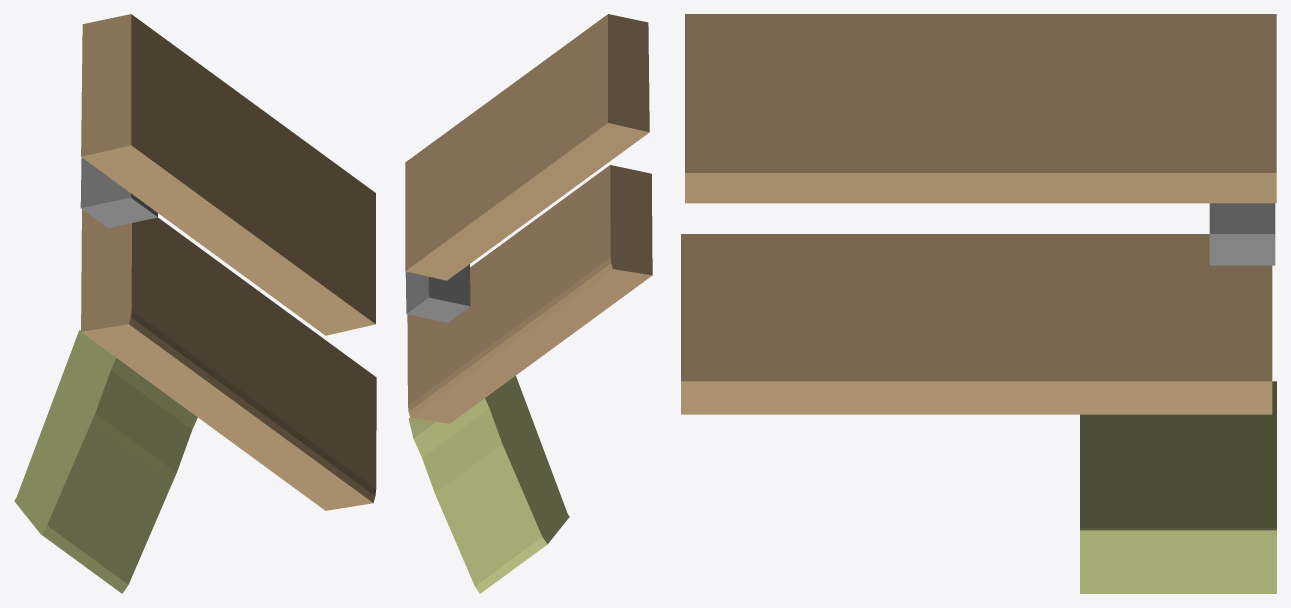
3 renders of one model, left to right at view 1: azimuth 30°, elevation 25°; view 2: azimuth 150°, elevation 25°; view 3: azimuth 270°, elevation 25°, orthographic. The views are drawn at different scales.
Visible parts, largest first — view 1: 0_1_3_2_1_1_2_0; view 2: 0_1_3_2_1_1_2_0; view 3: 0_1_3_2_1_1_2_0.
Boxes of the visible parts, x1,y1,x2,y2 form: 0_1_3_2_1_1_2_0: (14,14,376,593); 0_1_3_2_1_1_2_0: (405,14,652,593); 0_1_3_2_1_1_2_0: (681,14,1276,593).
Size of the model in its own units: 7.45 by 30.46 by 27.21.
